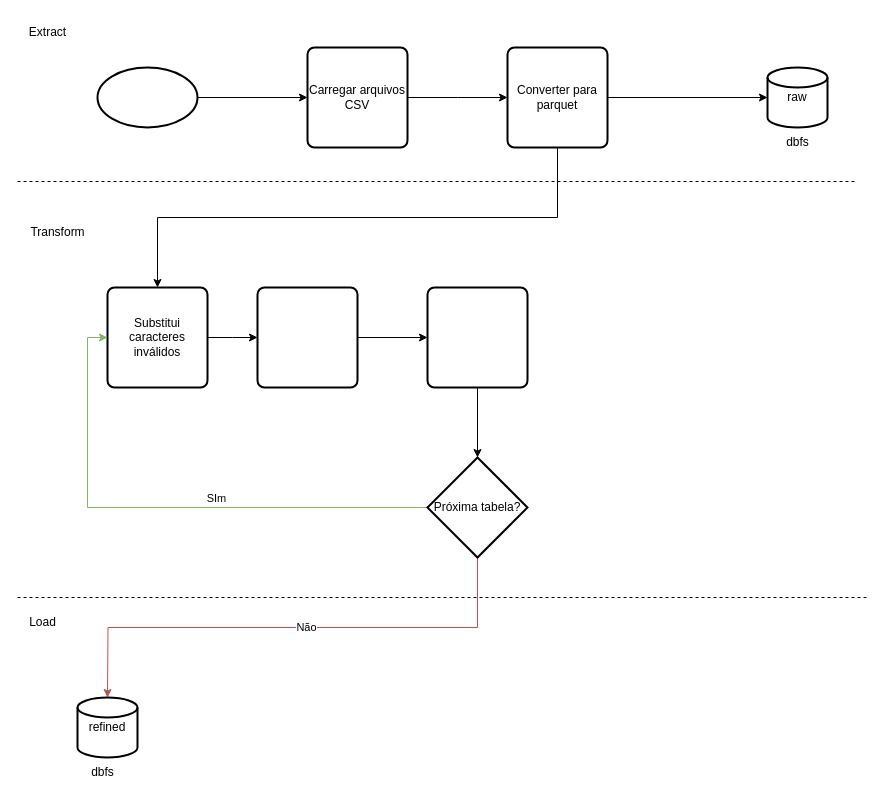
The diagram is 886 pixels wide and 804 high, and some of its shapes have lost their labels. The box of each missing label's shape, as (x1, y1, x2, y2) in pixels:
Inicio: (96, 66, 198, 128)
Realiza cast dos dados: (256, 286, 358, 388)
Renomeia cabeçalho: (426, 286, 528, 388)
